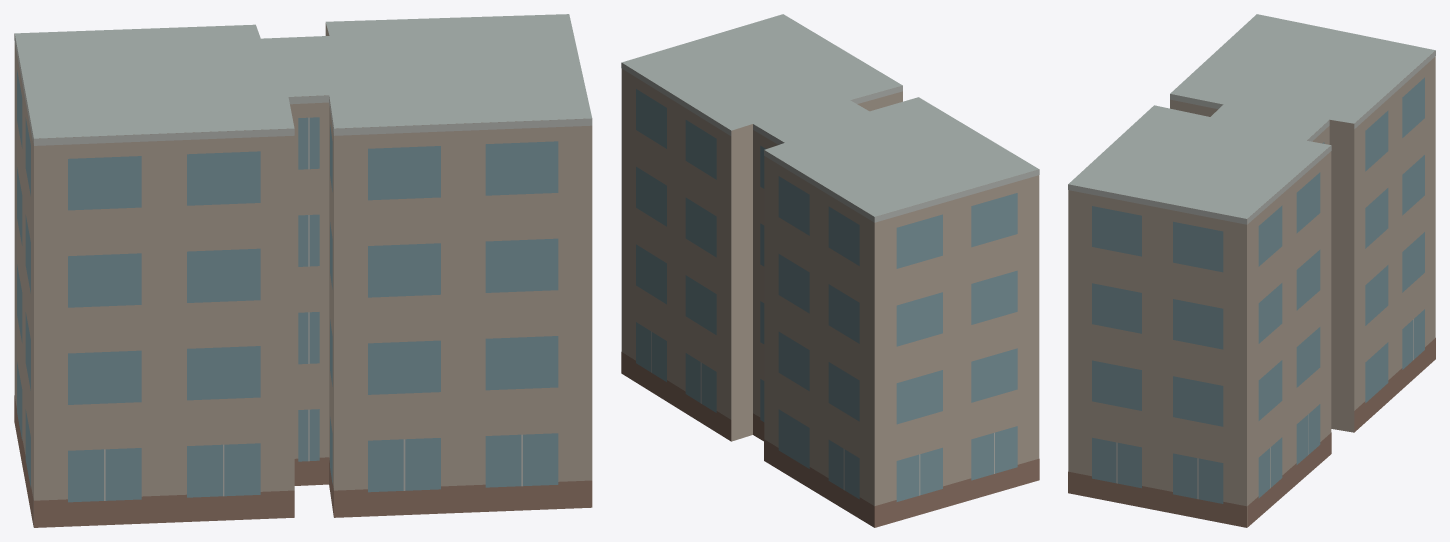
File: survey-upis-32982131.glb
The picture shows the model from 3 angles, left to right: view 1: azimuth 30°, elevation 25°; view 2: azimuth 150°, elevation 25°; view 3: azimuth 270°, elevation 25°; orthographic projection. The views are drawn at different scales.
Parts seen in each view (by area): view 1: survey-upis-32982131.tmp; view 2: survey-upis-32982131.tmp; view 3: survey-upis-32982131.tmp.
Part boxes in pixels (<box>): survey-upis-32982131.tmp: <box>14,14,592,527</box>; survey-upis-32982131.tmp: <box>621,14,1039,527</box>; survey-upis-32982131.tmp: <box>1068,14,1435,527</box>.
Size of the model in its own units: 18.51 by 13 by 14.03.
